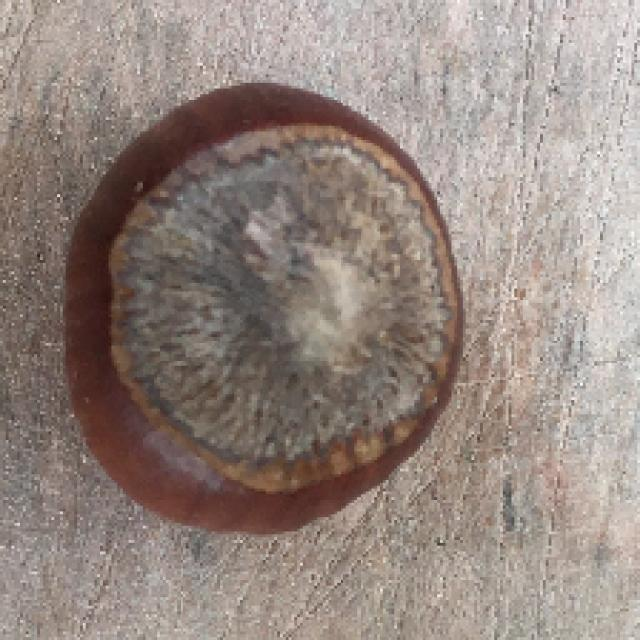DamagedHazelnut: (66, 80, 473, 535)
